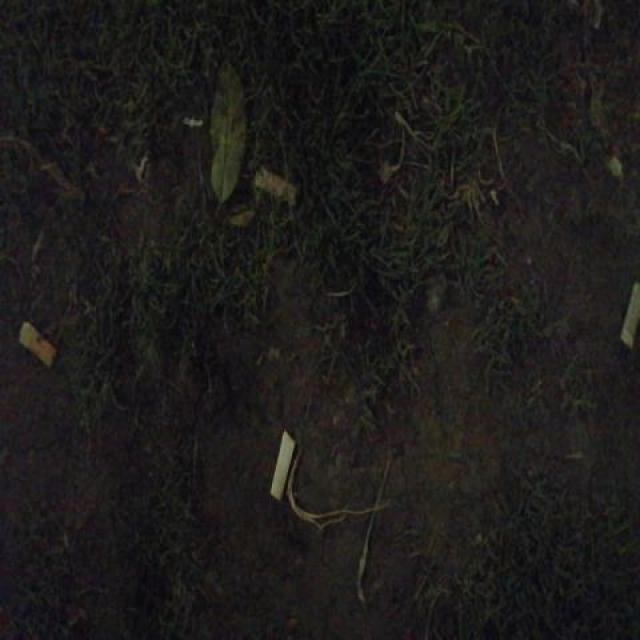non-organic waste: (14, 317, 61, 374), (267, 425, 301, 503), (250, 164, 303, 208), (616, 276, 640, 355)
